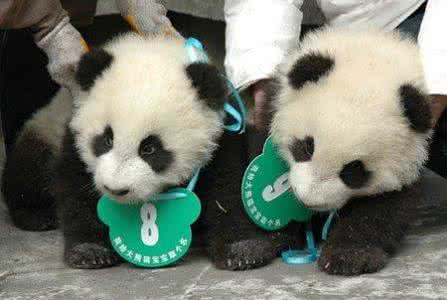panda: (4, 27, 226, 278), (244, 15, 443, 281)
